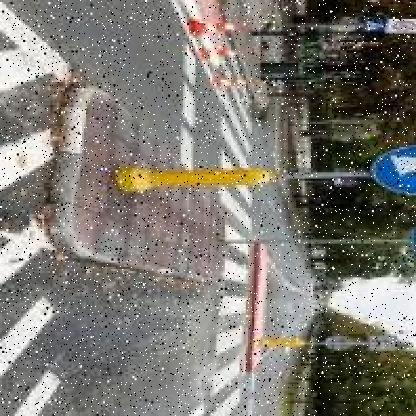Pedestrian Crossing: (400, 222, 416, 257), (363, 20, 388, 35)
